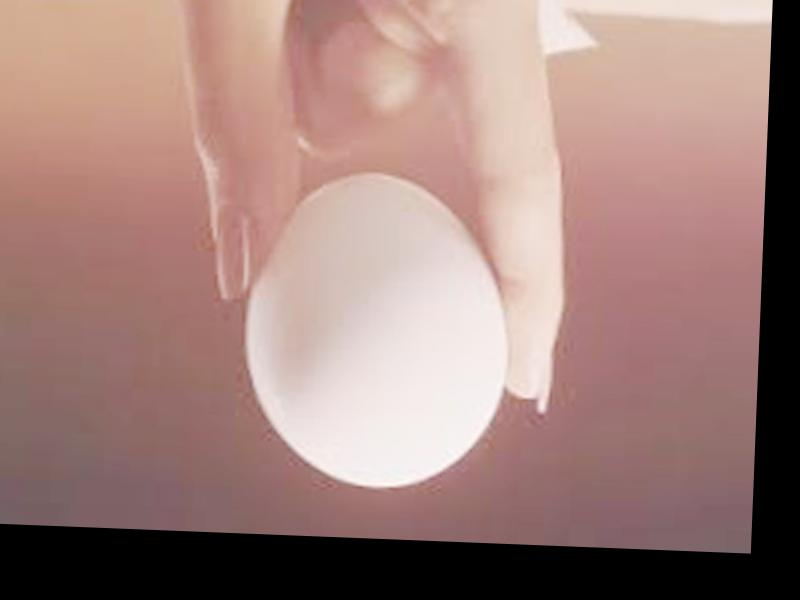Eggs: (238, 167, 517, 493)
